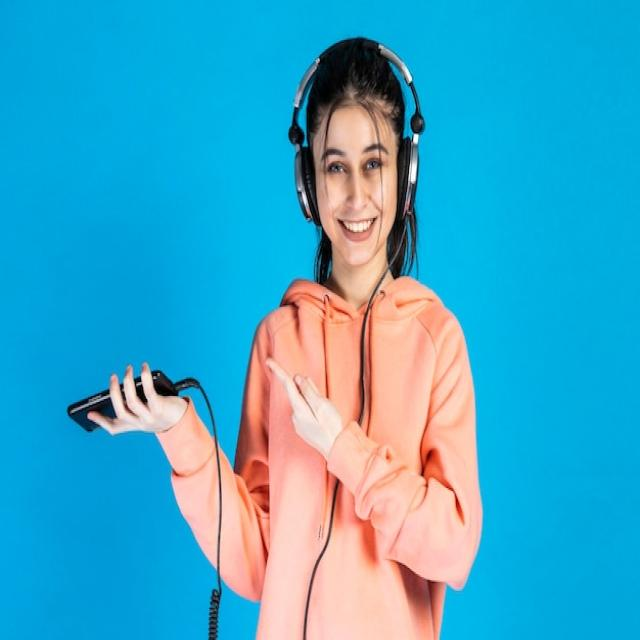Headphone: (290, 38, 424, 232)
